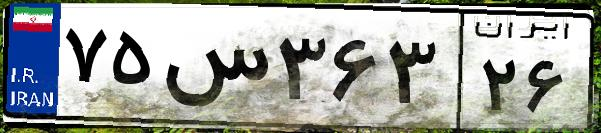2: (475, 38, 525, 113)
3: (270, 28, 330, 110), (385, 28, 445, 110)
5: (110, 28, 158, 98)
6: (330, 28, 385, 110), (525, 38, 570, 115)
7: (57, 26, 110, 100)
س: (158, 20, 270, 120)
